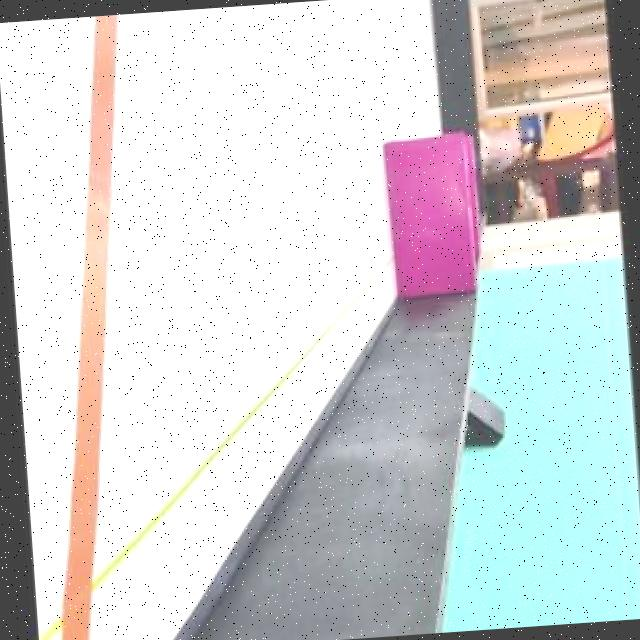xparking: (387, 134, 473, 289)
